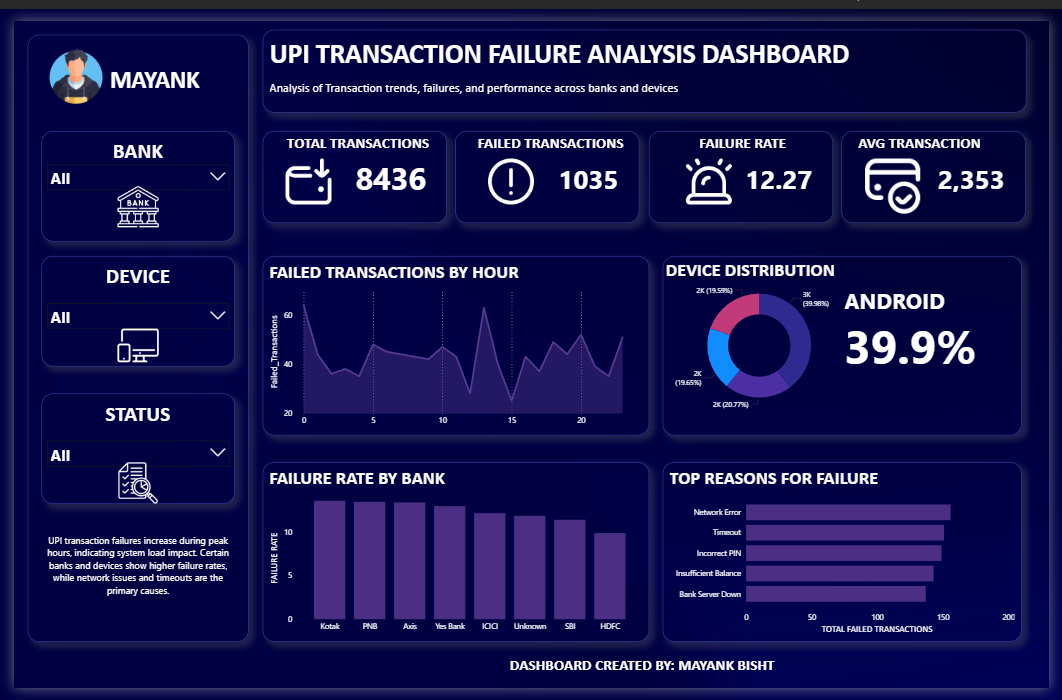

The dashboard page shown, as its layout file describes it:
{"tool":"powerbi","page":{"name":"Page 1","canvas":[1800,1160],"ordinal":0},"visuals":[{"type":"textbox","box":[432,16,1328,144],"z":0},{"type":"group","id":"g1","title":"Group 1","box":[1376,192,384,160],"z":0,"group":"g4"},{"type":"cardVisual","fields":{"Data":["UPI_Transactions_Cleaned.Total Transaction"]},"box":[432,192,320,160],"z":1000,"group":"g5"},{"type":"group","id":"g2","title":"Group 2","box":[1056,192,368,160],"z":1000,"group":"g4"},{"type":"columnChart","title":"FAILURE RATE BY BANK","fields":{"Y":["UPI_Transactions_Cleaned.Failure_Rate"],"Category":["UPI_Transactions_Cleaned.bank"]},"box":[432,768,672,312],"z":1000},{"type":"group","id":"g3","title":"Group 3","box":[704,192,384,160],"z":2000,"group":"g4"},{"type":"cardVisual","fields":{"Data":["UPI_Transactions_Cleaned.Failed_Transactions"]},"box":[768,192,320,160],"z":2000,"group":"g3"},{"type":"donutChart","fields":{"Category":["UPI_Transactions_Cleaned.device"],"Y":["UPI_Transactions_Cleaned.Total Transaction"]},"box":[1128,432,336,264],"z":2000},{"type":"group","id":"g4","title":"Group 5","box":[352,192,1408,160],"z":3000},{"type":"group","id":"g5","title":"Group 4","box":[352,192,400,160],"z":3000,"group":"g4"},{"type":"cardVisual","fields":{"Data":["UPI_Transactions_Cleaned.Failure_Rate"]},"box":[1104,192,320,160],"z":3000,"group":"g2"},{"type":"cardVisual","fields":{"Data":["UPI_Transactions_Cleaned.Avg_Amount"]},"box":[1440,192,320,160],"z":4000,"group":"g1"},{"type":"textbox","box":[1440,456,312,216],"z":4000},{"type":"textbox","box":[432,192,320,64],"z":5000,"group":"g5"},{"type":"textbox","box":[1128,408,576,72],"z":5000},{"type":"textbox","box":[768,192,320,64],"z":6000,"group":"g3"},{"type":"shape","box":[1128,408,624,312],"z":6000},{"type":"textbox","box":[1104,192,320,64],"z":7000,"group":"g2"},{"type":"lineChart","title":"FAILED TRANSACTIONS BY HOUR","fields":{"Category":["UPI_Transactions_Cleaned.Hour"],"Y":["UPI_Transactions_Cleaned.Failed_Transactions"]},"box":[432,408,672,312],"z":7000},{"type":"textbox","box":[1408,192,320,64],"z":8000,"group":"g1"},{"type":"barChart","title":"TOP REASONS FOR FAILURE","fields":{"Category":["UPI_Transactions_Cleaned.failure_reason"],"Y":["UPI_Transactions_Cleaned.Failed_Transactions"]},"box":[1128,768,624,312],"z":8000},{"type":"shape","box":[24,24,384,1056],"z":9000},{"type":"image","box":[352,240,320,80],"z":9000,"group":"g5"},{"type":"textbox","box":[48,192,336,192],"z":10000},{"type":"image","box":[704,240,320,80],"z":10000,"group":"g3"},{"type":"image","box":[1056,240,304,80],"z":11000,"group":"g2"},{"type":"textbox","box":[48,408,336,192],"z":11000},{"type":"slicer","fields":{"Values":["UPI_Transactions_Cleaned.bank"]},"box":[48,240,336,96],"z":12000},{"type":"image","box":[1376,240,304,96],"z":12000,"group":"g1"},{"type":"slicer","fields":{"Values":["UPI_Transactions_Cleaned.device"]},"box":[48,480,336,96],"z":13000},{"type":"textbox","box":[48,648,336,192],"z":14000},{"type":"slicer","fields":{"Values":["UPI_Transactions_Cleaned.status"]},"box":[48,720,336,96],"z":15000},{"type":"image","box":[48,288,336,72],"z":16000},{"type":"image","box":[48,528,336,72],"z":17000},{"type":"image","box":[48,768,336,72],"z":18000},{"type":"image","box":[24,48,168,96],"z":19000},{"type":"textbox","box":[72,72,336,120],"z":20000},{"type":"textbox","box":[48,888,336,168],"z":21000},{"type":"textbox","box":[432,1080,1320,72],"z":22000}]}

Visuals, with their boxes in screenshot pixels (x1, y1, x2, y2), scaled from the page's 1800x1160 canvas onto the 1062x700 screenshot:
textbox: detection(255, 10, 1038, 97)
"Group 1" group: detection(812, 116, 1038, 212)
cardVisual - UPI_Transactions_Cleaned.Total Transaction: detection(255, 116, 444, 212)
"Group 2" group: detection(623, 116, 840, 212)
"FAILURE RATE BY BANK" columnChart: detection(255, 463, 651, 652)
"Group 3" group: detection(415, 116, 642, 212)
cardVisual - UPI_Transactions_Cleaned.Failed_Transactions: detection(453, 116, 642, 212)
donutChart - UPI_Transactions_Cleaned.device x UPI_Transactions_Cleaned.Total Transaction: detection(666, 261, 864, 420)
"Group 5" group: detection(208, 116, 1038, 212)
"Group 4" group: detection(208, 116, 444, 212)
cardVisual - UPI_Transactions_Cleaned.Failure_Rate: detection(651, 116, 840, 212)
cardVisual - UPI_Transactions_Cleaned.Avg_Amount: detection(850, 116, 1038, 212)
textbox: detection(850, 275, 1034, 406)
textbox: detection(255, 116, 444, 154)
textbox: detection(666, 246, 1005, 290)
textbox: detection(453, 116, 642, 154)
shape: detection(666, 246, 1034, 434)
textbox: detection(651, 116, 840, 154)
"FAILED TRANSACTIONS BY HOUR" lineChart: detection(255, 246, 651, 434)
textbox: detection(831, 116, 1020, 154)
"TOP REASONS FOR FAILURE" barChart: detection(666, 463, 1034, 652)
shape: detection(14, 14, 241, 652)
image: detection(208, 145, 396, 193)
textbox: detection(28, 116, 227, 232)
image: detection(415, 145, 604, 193)
image: detection(623, 145, 802, 193)
textbox: detection(28, 246, 227, 362)
slicer - UPI_Transactions_Cleaned.bank: detection(28, 145, 227, 203)
image: detection(812, 145, 991, 203)
slicer - UPI_Transactions_Cleaned.device: detection(28, 290, 227, 348)
textbox: detection(28, 391, 227, 507)
slicer - UPI_Transactions_Cleaned.status: detection(28, 434, 227, 492)
image: detection(28, 174, 227, 217)
image: detection(28, 319, 227, 362)
image: detection(28, 463, 227, 507)
image: detection(14, 29, 113, 87)
textbox: detection(42, 43, 241, 116)
textbox: detection(28, 536, 227, 637)
textbox: detection(255, 652, 1034, 695)
